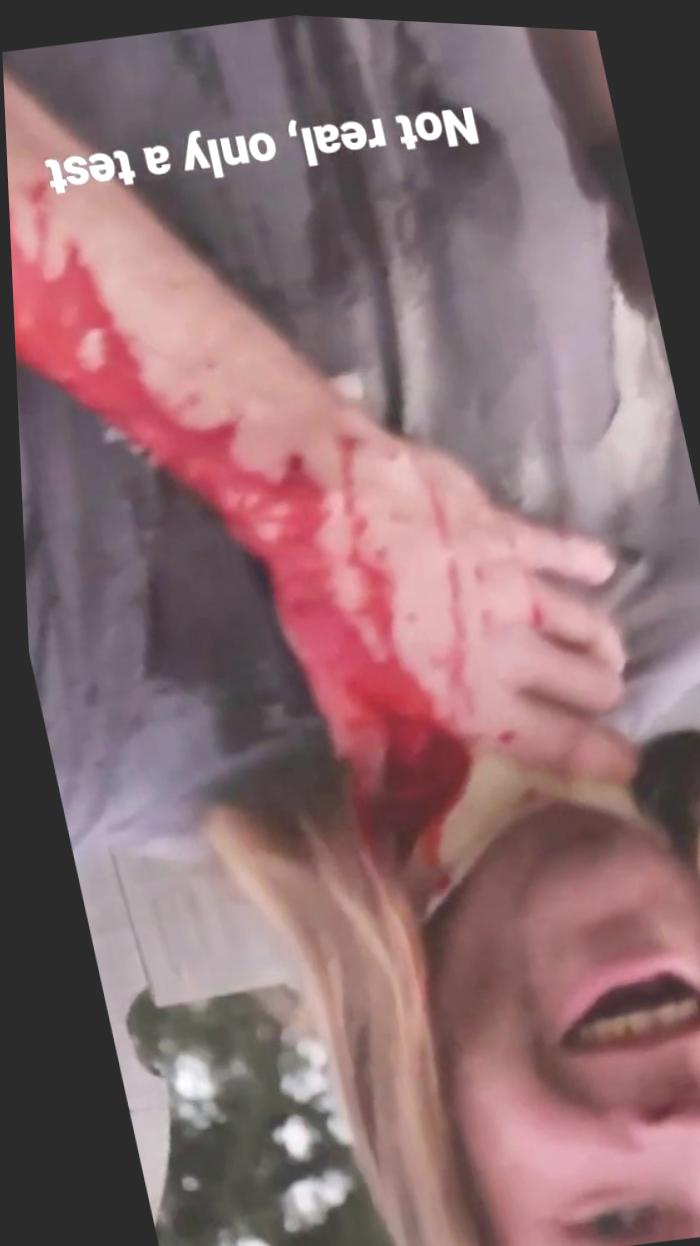Fire: (7, 158, 539, 889)
